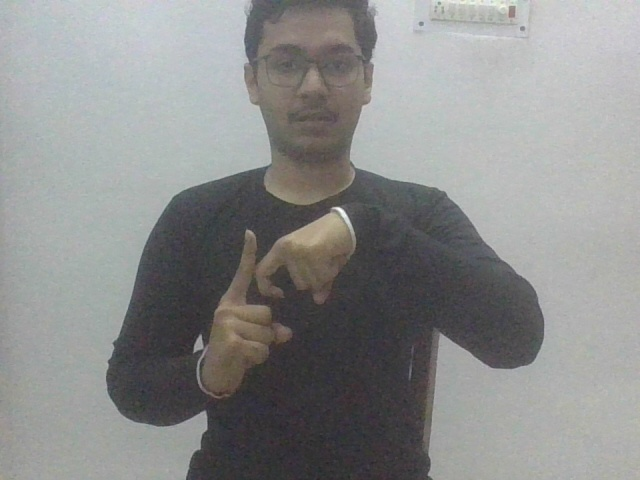K: (197, 206, 366, 397)
